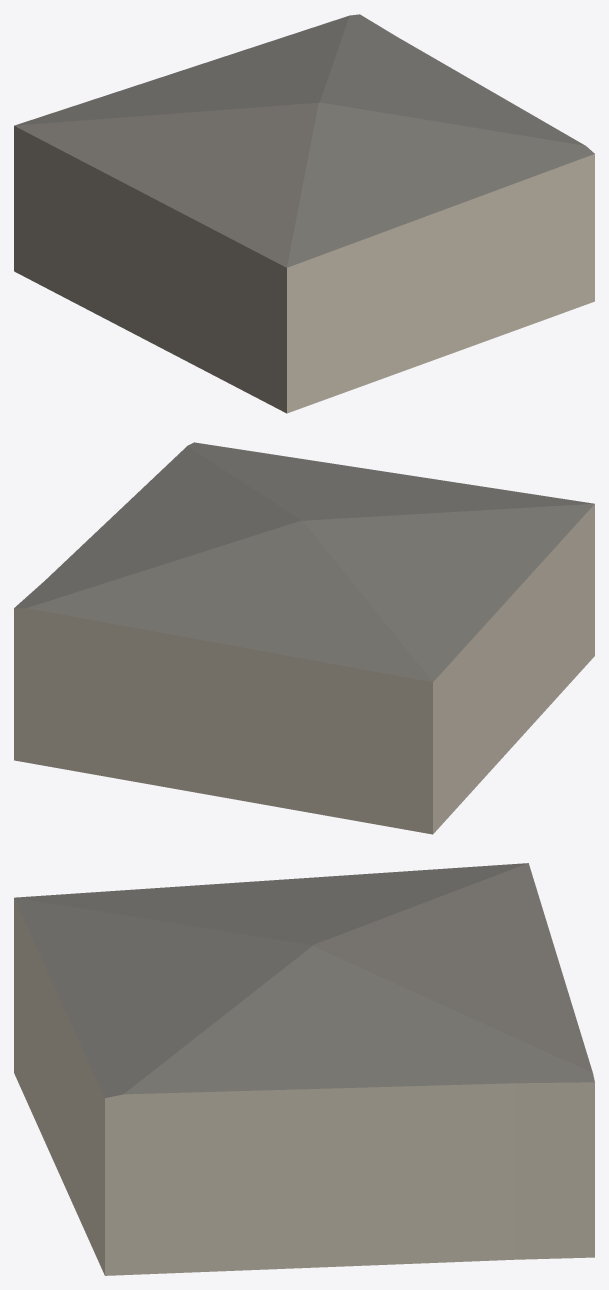
3 renders of one model, top to bottom at view 1: azimuth 30°, elevation 25°; view 2: azimuth 150°, elevation 25°; view 3: azimuth 270°, elevation 25°, orthographic. The views are drawn at different scales.
Visible parts, largest first — view 1: HP-w389701901; view 2: HP-w389701901; view 3: HP-w389701901.
Boxes of the visible parts, <box> form: HP-w389701901: <box>14,14,594,413</box>; HP-w389701901: <box>14,442,594,834</box>; HP-w389701901: <box>14,863,594,1275</box>.
Size of the model in its own units: 34.89 by 15 by 36.06.
